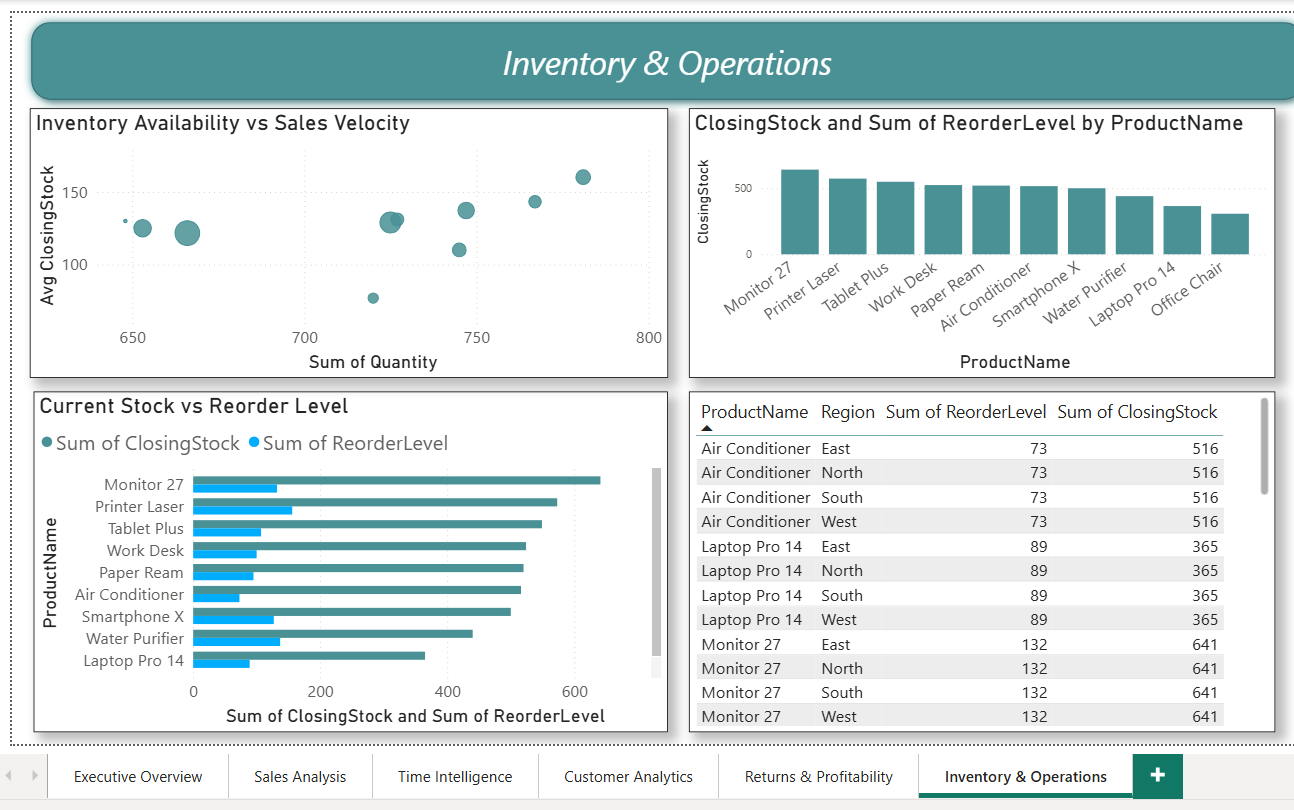

The page's visual inventory and layout, read from the dashboard file:
{"tool":"powerbi","page":{"name":"Inventory & Operations","canvas":[1280,720],"ordinal":5},"visuals":[{"type":"shape","box":[10,0,1270,94.3],"z":0},{"type":"clusteredBarChart","title":"Current Stock vs Reorder Level","fields":{"Category":["Products.ProductName"],"Y":["Sum(Inventory_Raw.ClosingStock)","Sum(Inventory_Raw.ReorderLevel)"]},"box":[21.4,372.9,624.3,335.7],"z":1},{"type":"scatterChart","title":"Inventory Availability vs Sales Velocity","fields":{"Y":["Avg(Inventory_Raw.ClosingStock)"],"Category":["Products.ProductName"],"X":["Sum(Orders_Raw.Quantity)"],"Size":["Orders_Raw.Total Net Revenue"]},"box":[17.1,94.3,628.6,265.7],"z":2},{"type":"clusteredColumnChart","fields":{"Category":["Products.ProductName"],"Y":["Sum(Inventory_Raw.ClosingStock)"]},"box":[665.7,94.3,577.1,265.7],"z":3},{"type":"tableEx","fields":{"Values":["Products.ProductName","Orders_Raw.Region","Sum(Inventory_Raw.ReorderLevel)","Sum(Inventory_Raw.ClosingStock)"]},"box":[665.7,372.9,577.1,335.7],"z":4}]}

Visuals, with their boxes in screenshot pixels (x1, y1, x2, y2):
shape: l=34, t=17, r=1293, b=111
"Current Stock vs Reorder Level" clusteredBarChart: l=45, t=389, r=667, b=723
"Inventory Availability vs Sales Velocity" scatterChart: l=41, t=111, r=667, b=376
clusteredColumnChart - Products.ProductName x Sum(Inventory_Raw.ClosingStock): l=687, t=111, r=1263, b=376
tableEx - Products.ProductName x Orders_Raw.Region: l=687, t=389, r=1263, b=723
